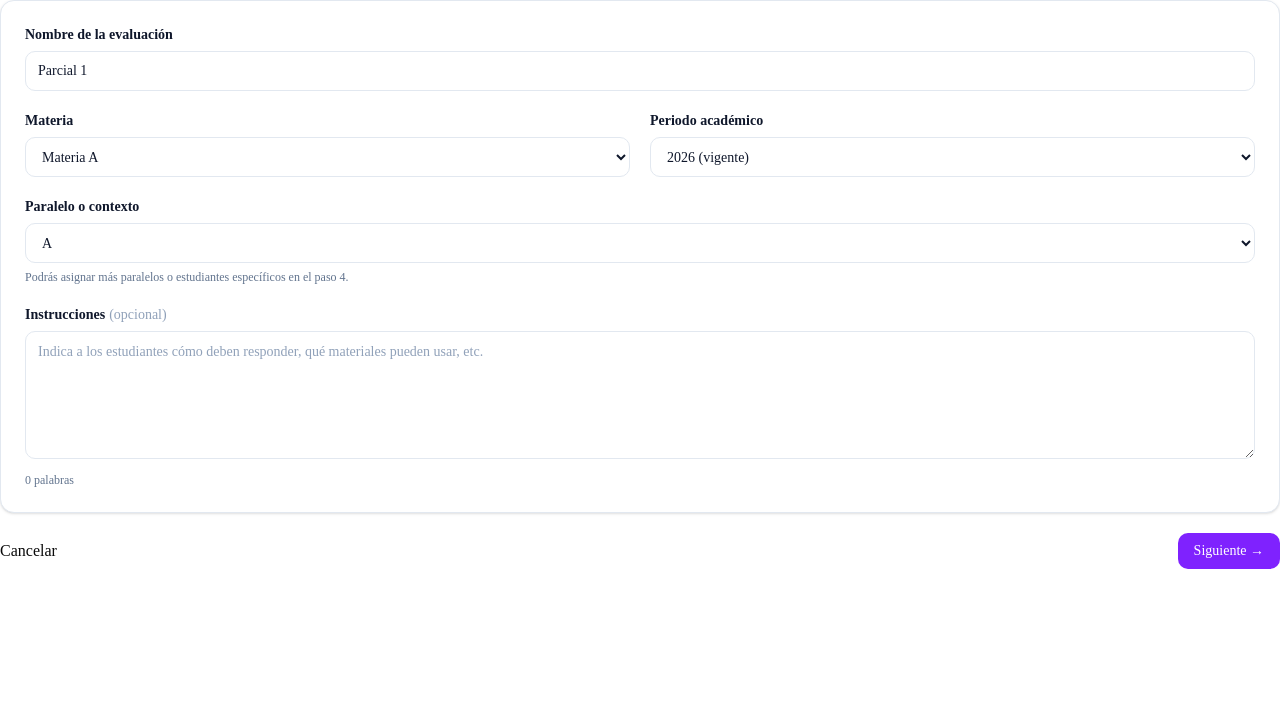
Test: EvaluacionInfoForm — advertencia de reinicio de asignaciones › advierte al cambiar el semestre
Select "2027" in the dropdown labelled "Periodo académico" at (952, 157), box [650, 137, 1255, 177]
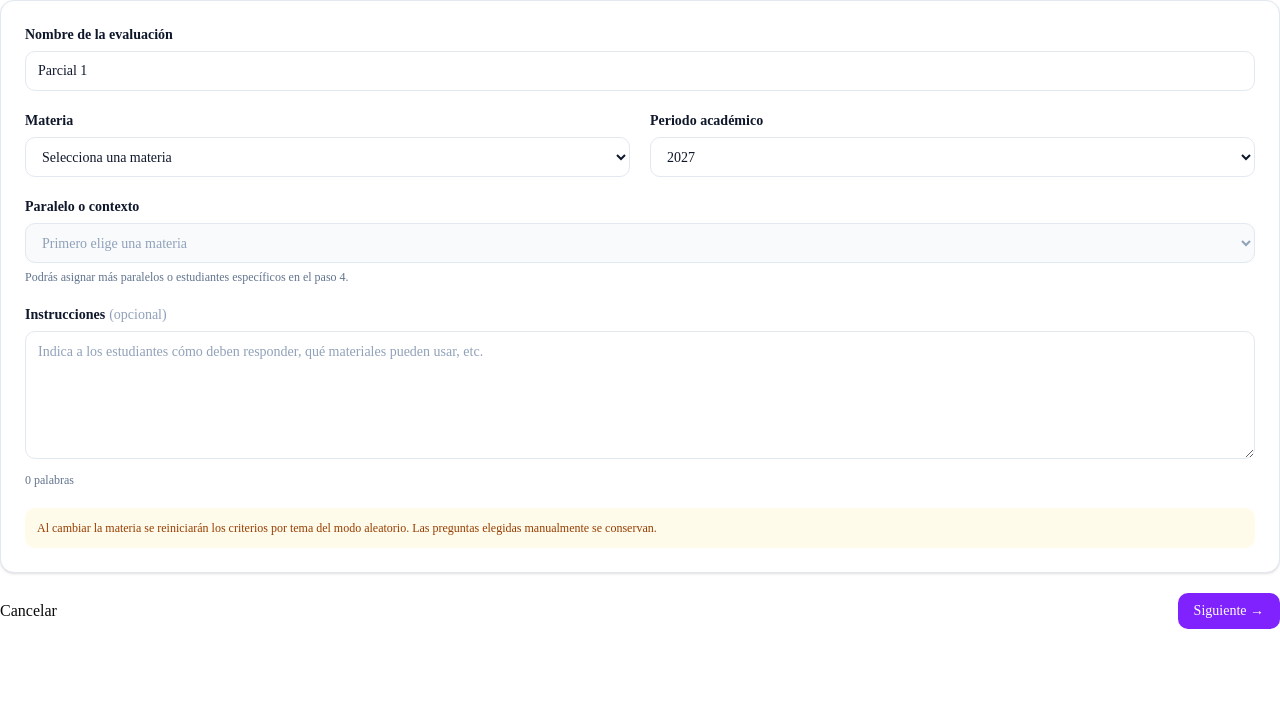
Select "Materia A" in the dropdown labelled "Materia" at (328, 157), box [25, 137, 630, 177]
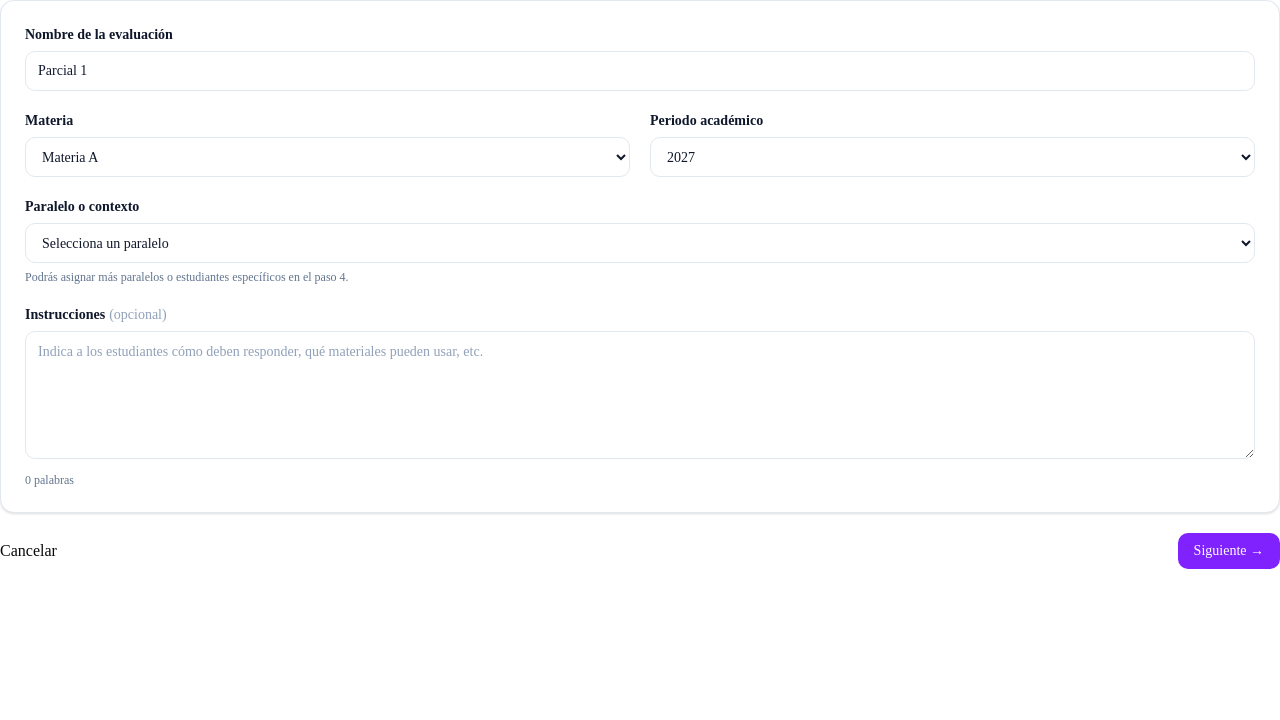
Select "D" in the dropdown labelled "Paralelo o contexto" at (640, 243), box [25, 223, 1255, 263]
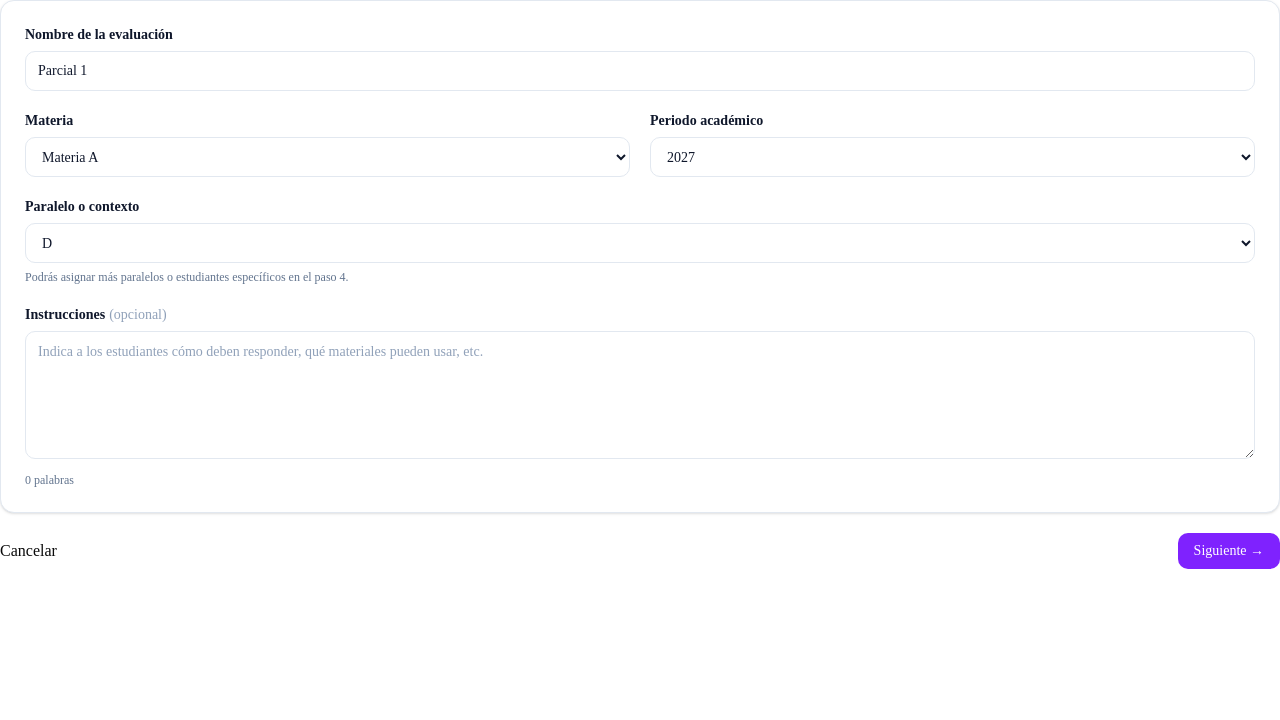
Click the button "Siguiente →" at (1229, 551), box [1178, 533, 1279, 569]
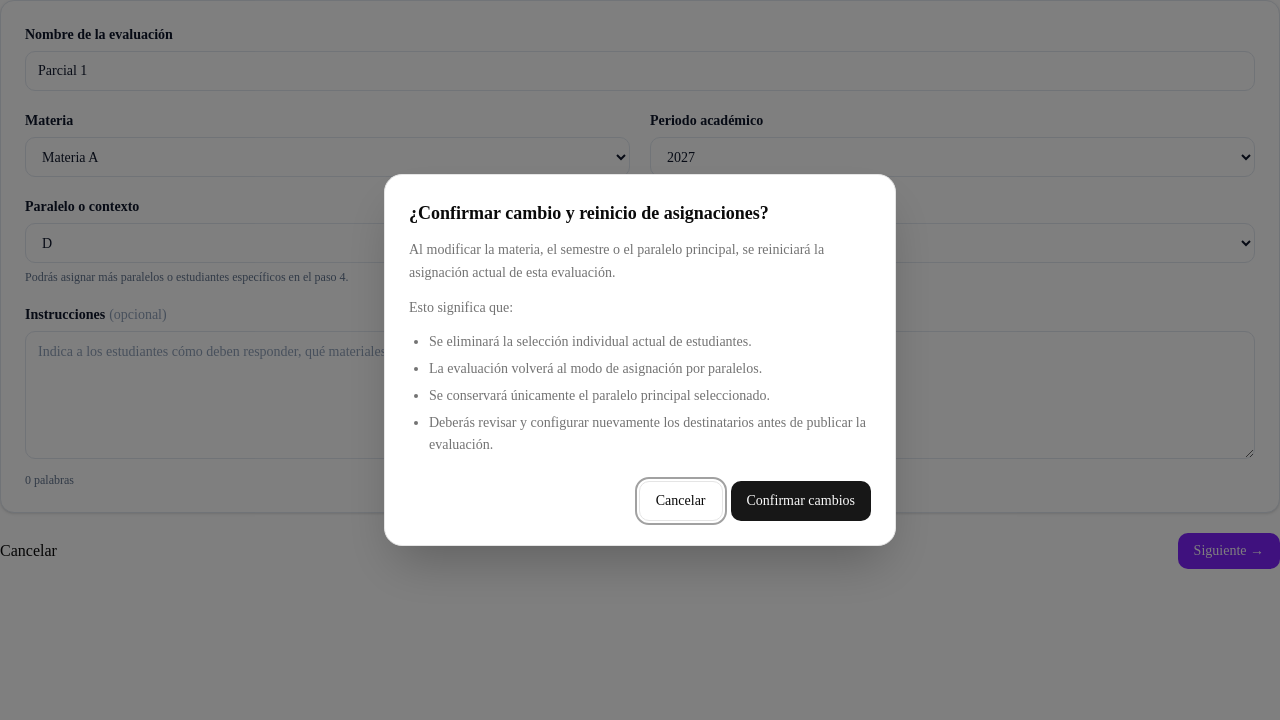
expect the dialog is shown: met, box [384, 174, 896, 546]
